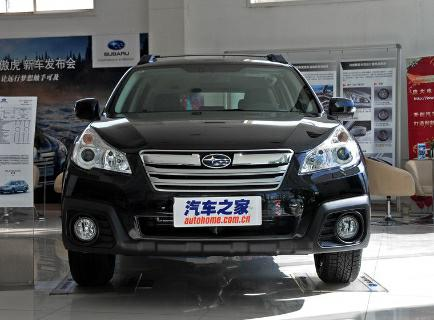斯巴鲁-傲虎: (57, 50, 376, 291)
